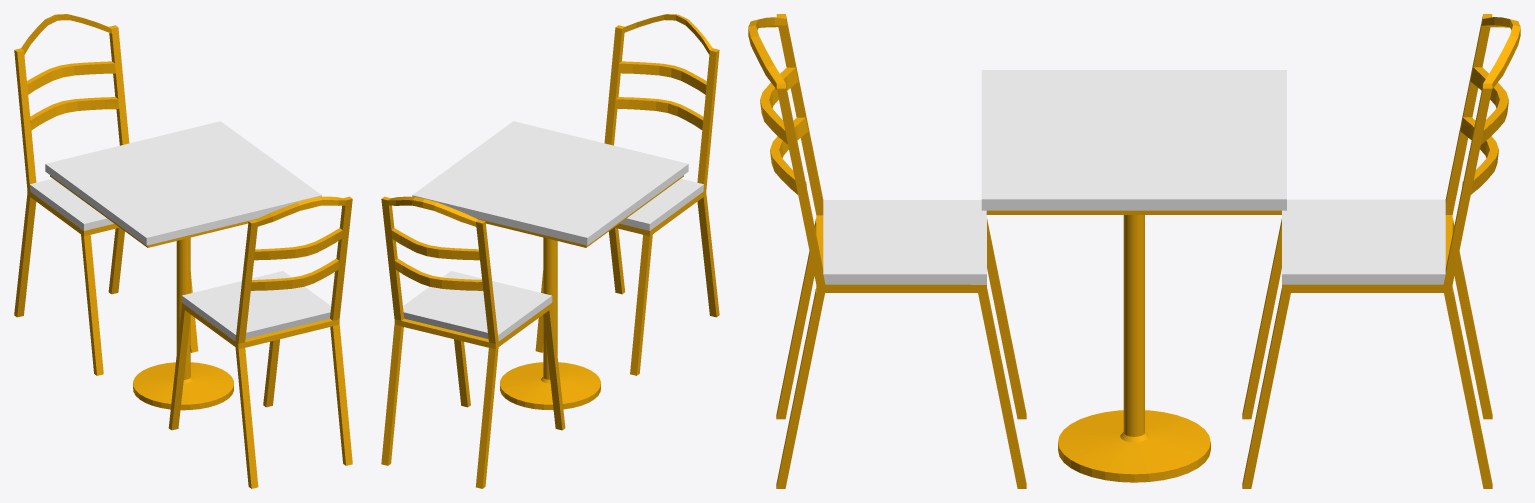
Rendered from Table_Gold.fbx.
3 renders of one model, left to right at view 1: azimuth 30°, elevation 25°; view 2: azimuth 150°, elevation 25°; view 3: azimuth 270°, elevation 25°, orthographic. The views are drawn at different scales.
Parts seen in each view (by area): view 1: Table_Top, Chair_Mesh.2, Chair_Mesh, Table_Bottom, Chair_Puff.2, Chair_Puff; view 2: Table_Top, Chair_Mesh, Chair_Mesh.2, Table_Bottom, Chair_Puff, Chair_Puff.2; view 3: Table_Top, Chair_Mesh, Chair_Mesh.2, Table_Bottom, Chair_Puff, Chair_Puff.2.
Boxes of the visible parts, x1=… form: Table_Top: x1=45, y1=121, x2=321, y2=245; Chair_Mesh.2: x1=168, y1=196, x2=352, y2=488; Chair_Mesh: x1=14, y1=14, x2=198, y2=375; Table_Bottom: x1=50, y1=175, x2=316, y2=410; Chair_Puff.2: x1=182, y1=271, x2=331, y2=340; Chair_Puff: x1=29, y1=178, x2=113, y2=230; Table_Top: x1=412, y1=121, x2=688, y2=245; Chair_Mesh: x1=381, y1=196, x2=565, y2=488; Chair_Mesh.2: x1=535, y1=14, x2=719, y2=375; Table_Bottom: x1=417, y1=175, x2=683, y2=410; Chair_Puff: x1=403, y1=271, x2=552, y2=341; Chair_Puff.2: x1=620, y1=178, x2=703, y2=230; Table_Top: x1=981, y1=70, x2=1286, y2=210; Chair_Mesh: x1=1242, y1=14, x2=1520, y2=488; Chair_Mesh.2: x1=748, y1=14, x2=1026, y2=488; Table_Bottom: x1=986, y1=210, x2=1281, y2=482; Chair_Puff: x1=1282, y1=199, x2=1445, y2=284; Chair_Puff.2: x1=823, y1=200, x2=986, y2=284.
Size of the model in its own units: 1011 by 400 by 616.
6 materials, 6 textured.
